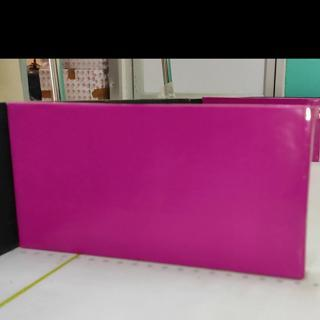xparking: (11, 103, 308, 278)
